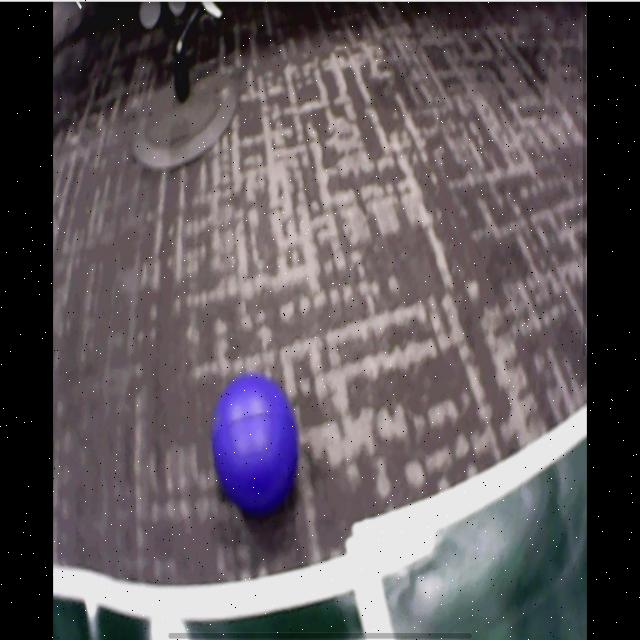ball: (214, 375, 301, 519)
